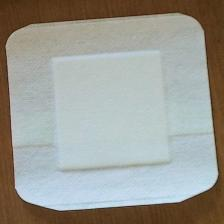Dressing: (7, 12, 221, 215)
